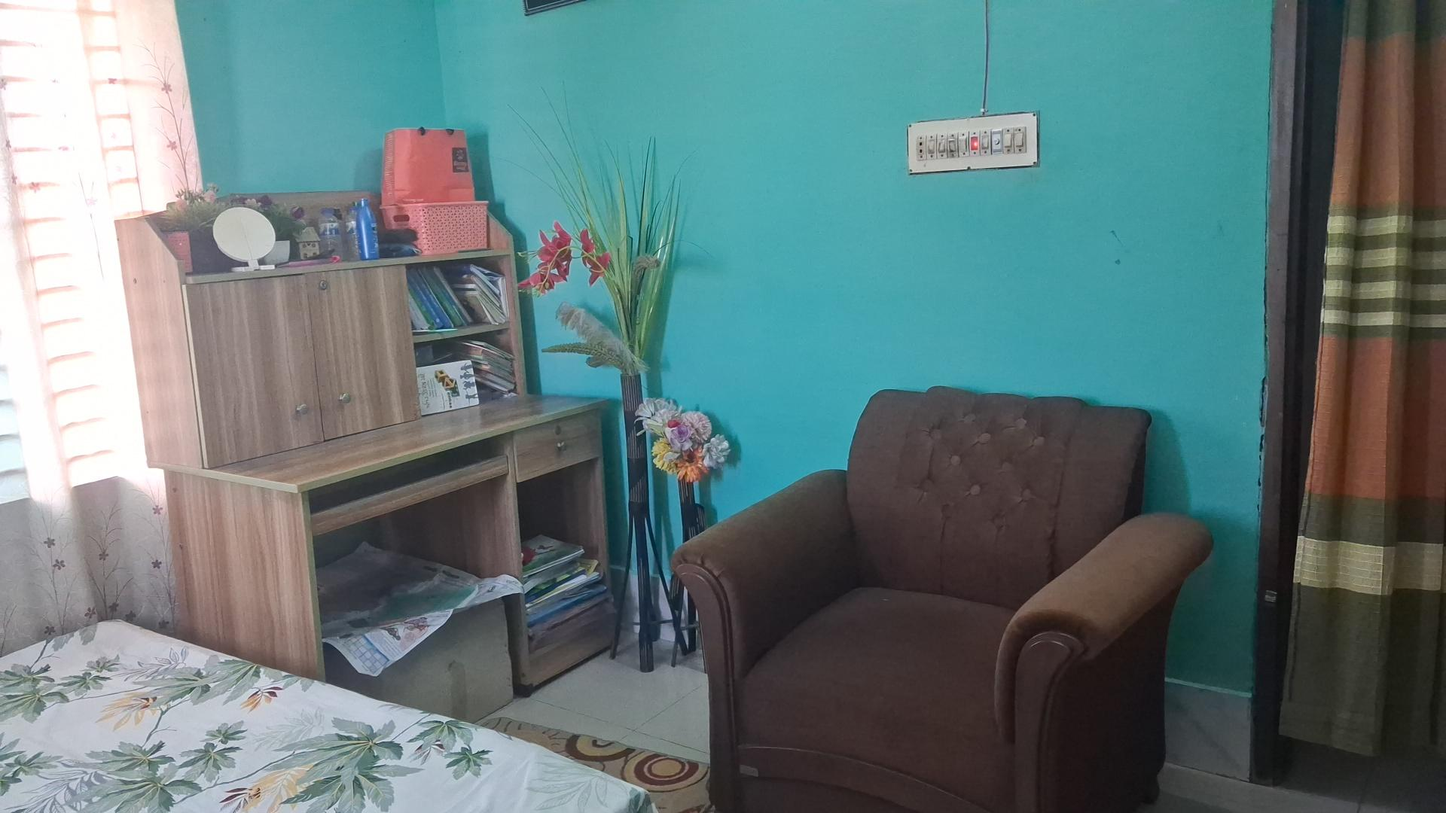Bag: (385, 127, 473, 199)
Basket: (383, 203, 485, 254)
Book: (414, 361, 481, 409)
Bottle: (354, 198, 382, 263), (320, 206, 344, 261)
